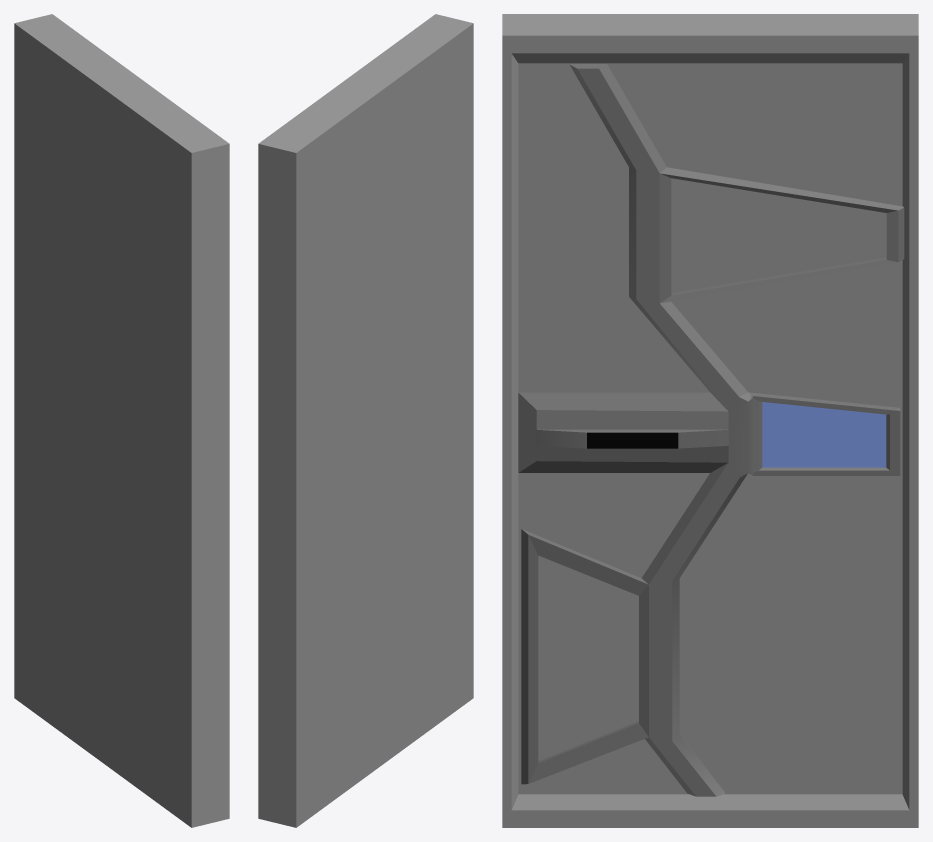
File: DOOR.fbx
3 renders of one model, left to right at view 1: azimuth 30°, elevation 25°; view 2: azimuth 150°, elevation 25°; view 3: azimuth 270°, elevation 25°, orthographic. The views are drawn at different scales.
Visible parts, largest first — view 1: pCube2; view 2: pCube2; view 3: pCube2, pCube3.
Part boxes in pixels (x1=…): pCube2: x1=14, y1=14, x2=229, y2=827; pCube2: x1=258, y1=14, x2=473, y2=827; pCube2: x1=502, y1=14, x2=918, y2=827; pCube3: x1=518, y1=64, x2=904, y2=796.
Size of the model in its own units: 0.1538 by 2.1 by 1.
